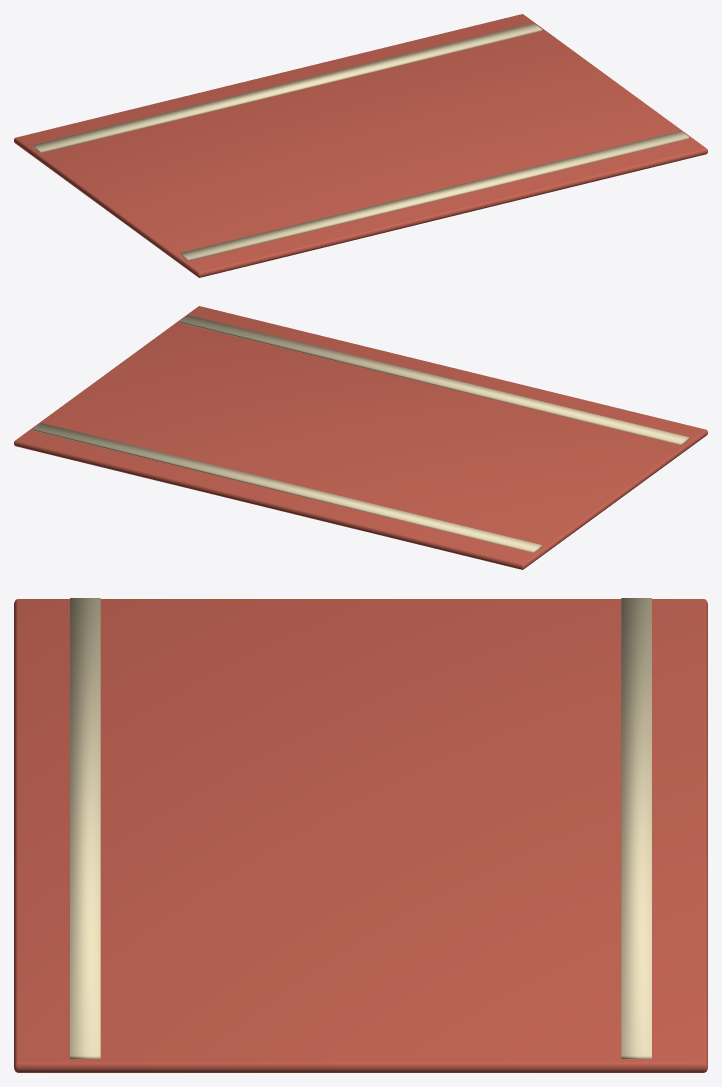
Rendered from place_mat.glb.
The picture shows the model from 3 angles, top to bottom: view 1: azimuth 30°, elevation 25°; view 2: azimuth 150°, elevation 25°; view 3: azimuth 270°, elevation 25°; orthographic projection. The views are drawn at different scales.
Parts seen in each view (by area): view 1: Cube.003, Cube.004, Cube.005; view 2: Cube.003, Cube.004, Cube.005; view 3: Cube.003, Cube.004, Cube.005.
Boxes of the visible parts, x1,y1,x2,y2 form: Cube.003: (14, 14, 707, 277); Cube.004: (180, 131, 688, 260); Cube.005: (33, 23, 541, 152); Cube.003: (14, 306, 707, 569); Cube.004: (180, 315, 688, 444); Cube.005: (33, 423, 541, 552); Cube.003: (14, 599, 707, 1072); Cube.004: (70, 598, 100, 1058); Cube.005: (621, 598, 651, 1058).
Bounding box in the file's own units: 10.8 × 0.1602 × 6.8.
